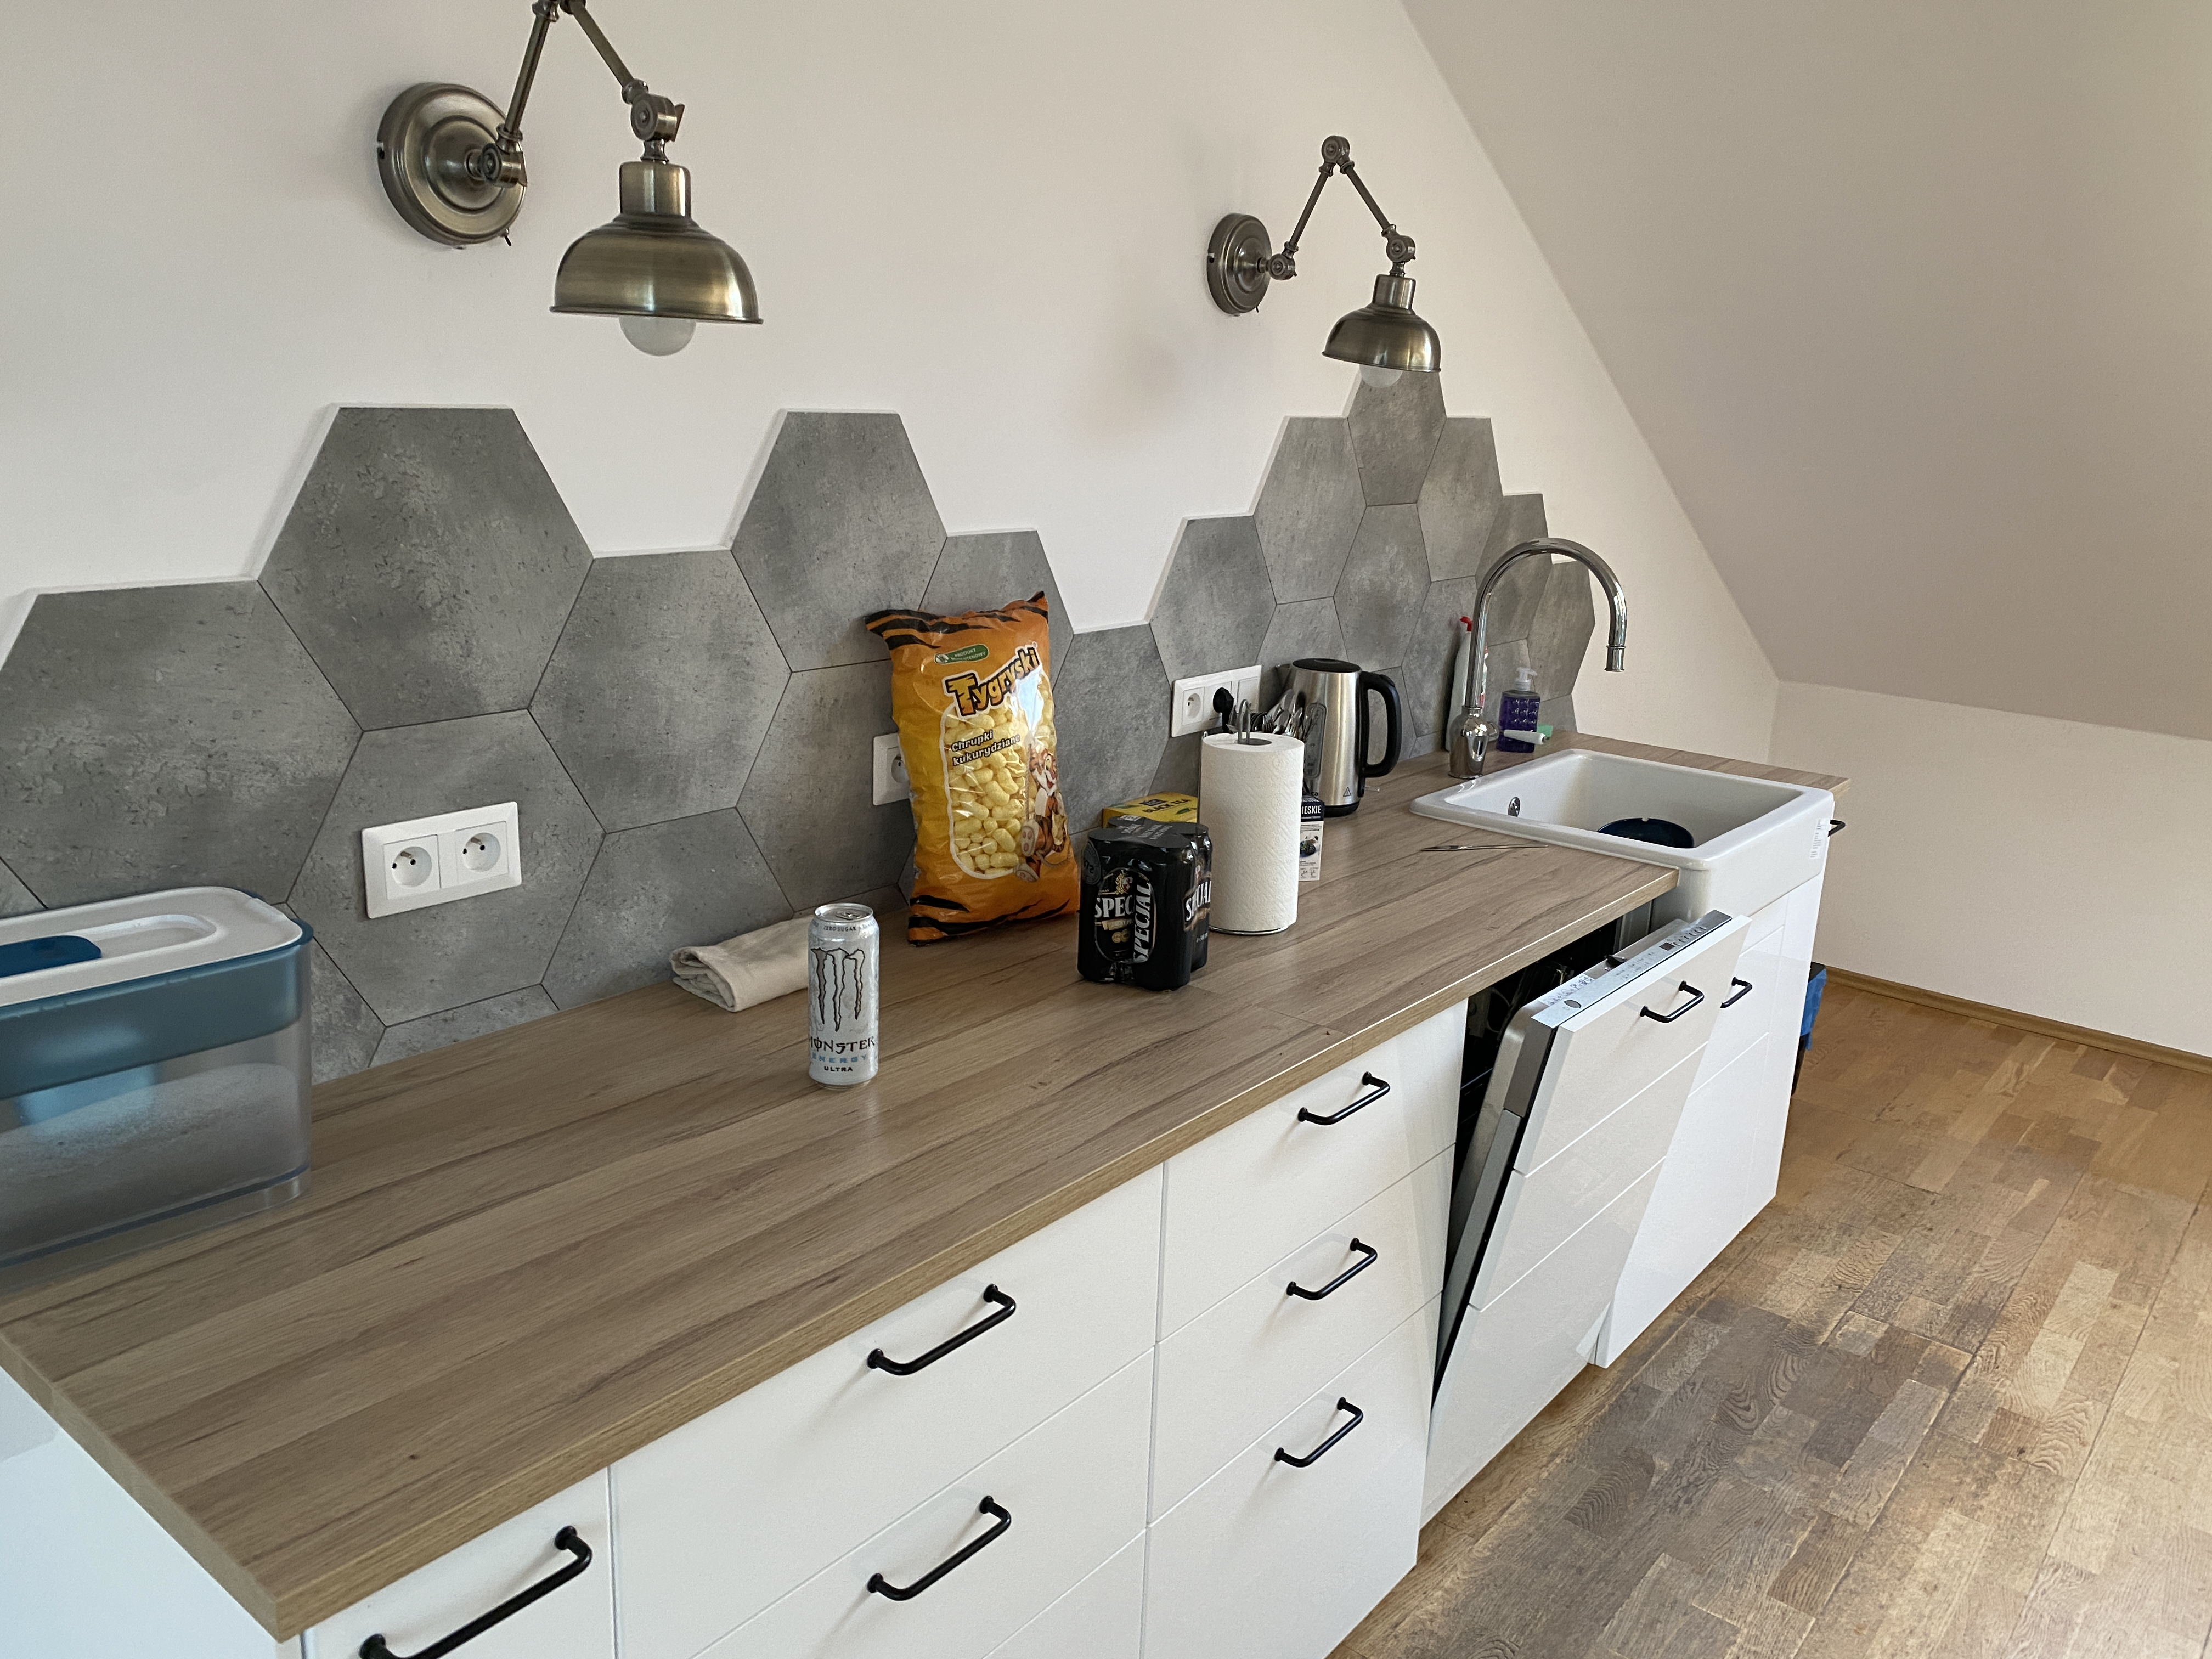specjal: (1078, 823, 1211, 993)
